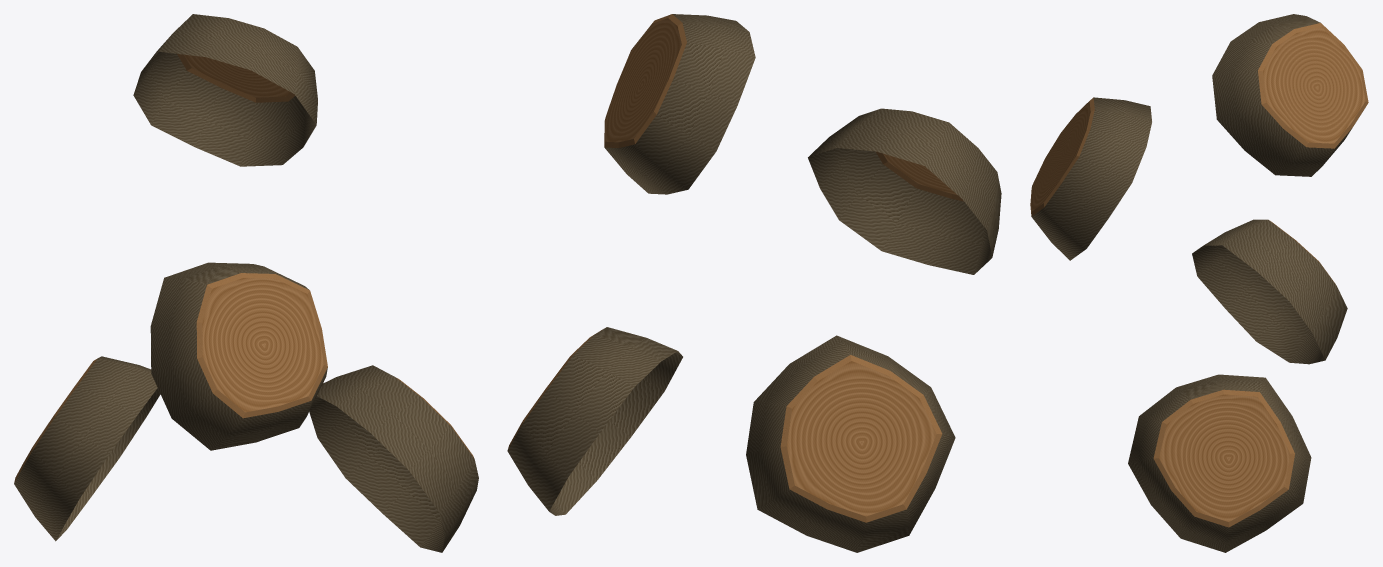
Rendered from Sessile_Oak_Mature_01_LowPruned_Recent_LOD2.fbx.
3 views of the same model, side by side, from view 1: azimuth 30°, elevation 25°; view 2: azimuth 150°, elevation 25°; view 3: azimuth 270°, elevation 25° (orthographic). The views are drawn at different scales.
Parts seen in each view (by area): view 1: Sessile_Oak_Mature_01_LowPruned_Recent_LOD2_Scars; view 2: Sessile_Oak_Mature_01_LowPruned_Recent_LOD2_Scars; view 3: Sessile_Oak_Mature_01_LowPruned_Recent_LOD2_Scars.
Part boxes in pixels (left/top/right/bottom): Sessile_Oak_Mature_01_LowPruned_Recent_LOD2_Scars: left=14, top=14, right=478, bottom=552; Sessile_Oak_Mature_01_LowPruned_Recent_LOD2_Scars: left=507, top=14, right=1001, bottom=552; Sessile_Oak_Mature_01_LowPruned_Recent_LOD2_Scars: left=1030, top=14, right=1368, bottom=552.
Size of what is drawn, in the model's own units: 150 by 185 by 123.
2 materials, 2 textured.
